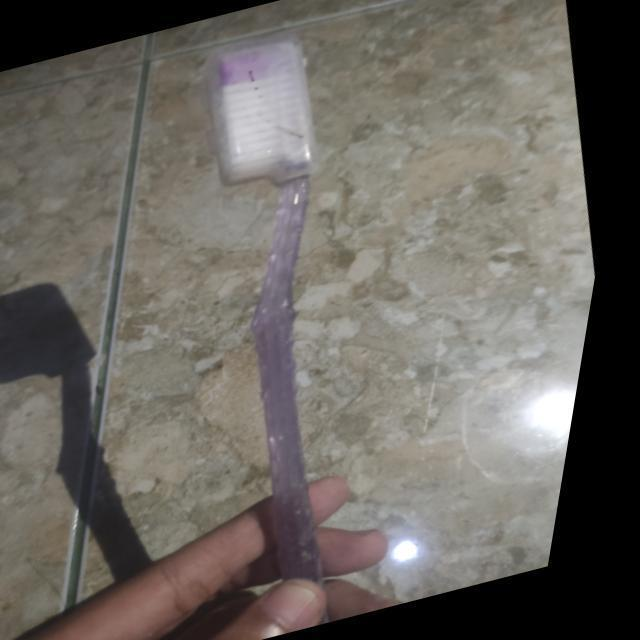toothbrush: (97, 23, 477, 640)
